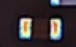COMP: (12, 12, 67, 45)
GAP: (48, 1, 63, 26)
